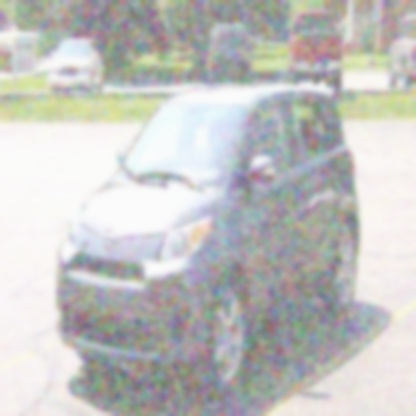Vehicle: (54, 81, 364, 400)
